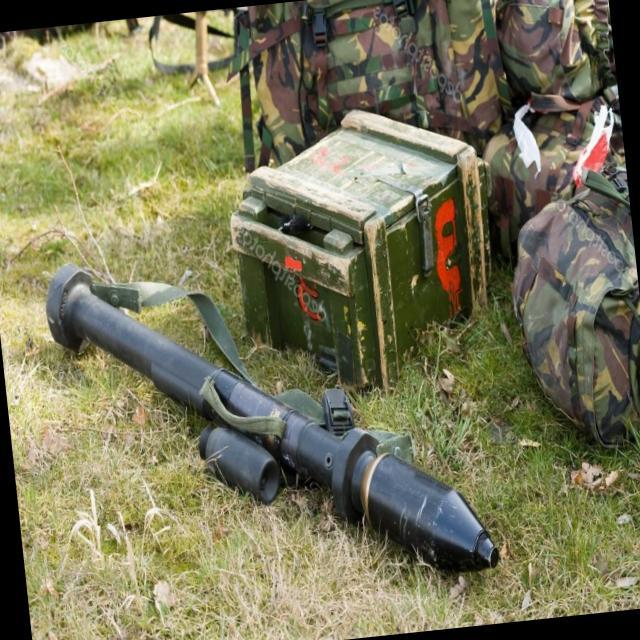rocket: (41, 228, 500, 622)
